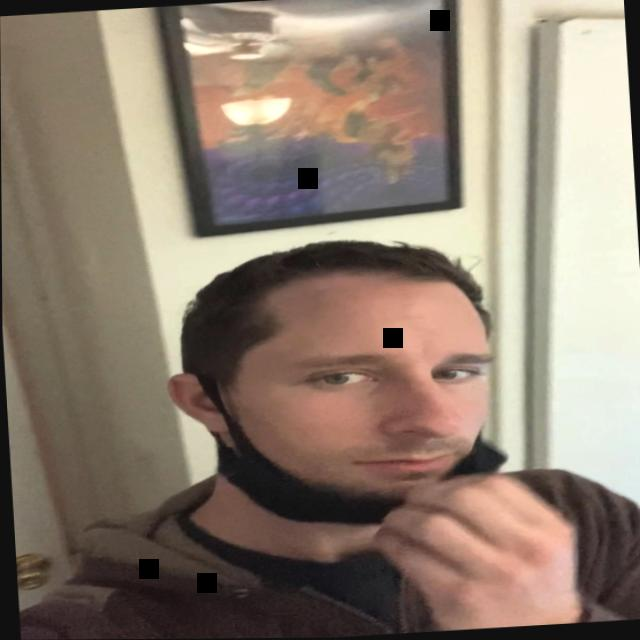NO-Mask: (184, 237, 515, 543)
